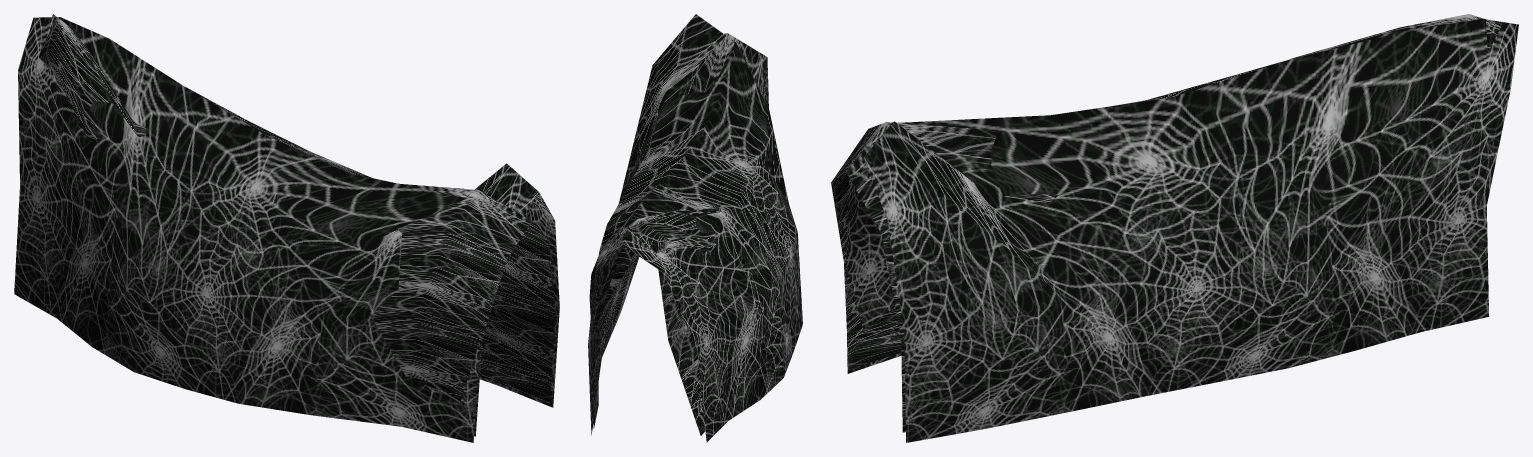
The model's file is INST_MIRK_COCOON.fbx.
3 renders of one model, left to right at view 1: azimuth 30°, elevation 25°; view 2: azimuth 150°, elevation 25°; view 3: azimuth 270°, elevation 25°, orthographic. The views are drawn at different scales.
Parts seen in each view (by area): view 1: INST_MIRK_COCOON; view 2: INST_MIRK_COCOON; view 3: INST_MIRK_COCOON.
Part boxes in pixels (box(x1,y1,x2,y2)): INST_MIRK_COCOON: box(14, 14, 559, 442); INST_MIRK_COCOON: box(588, 14, 802, 442); INST_MIRK_COCOON: box(831, 14, 1518, 442).
Size of the model in its own units: 96430 by 78382 by 164904.
Materials: 1 (1 with a texture image).
